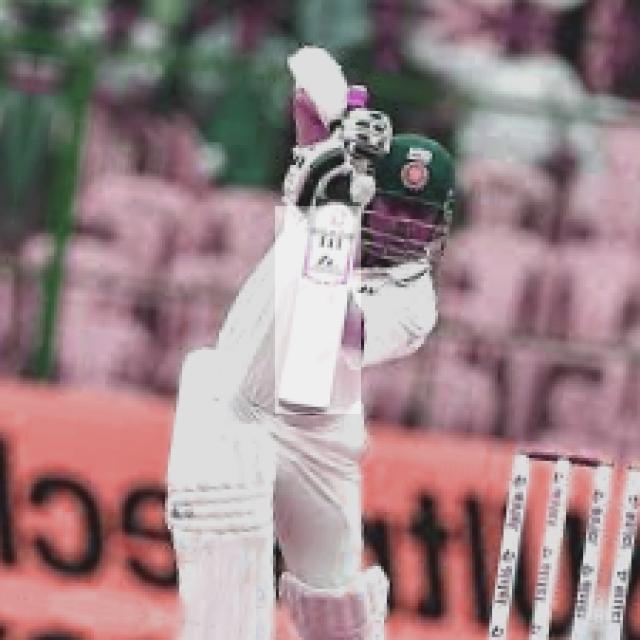bat: (275, 208, 362, 416)
toe: (275, 399, 329, 417)
